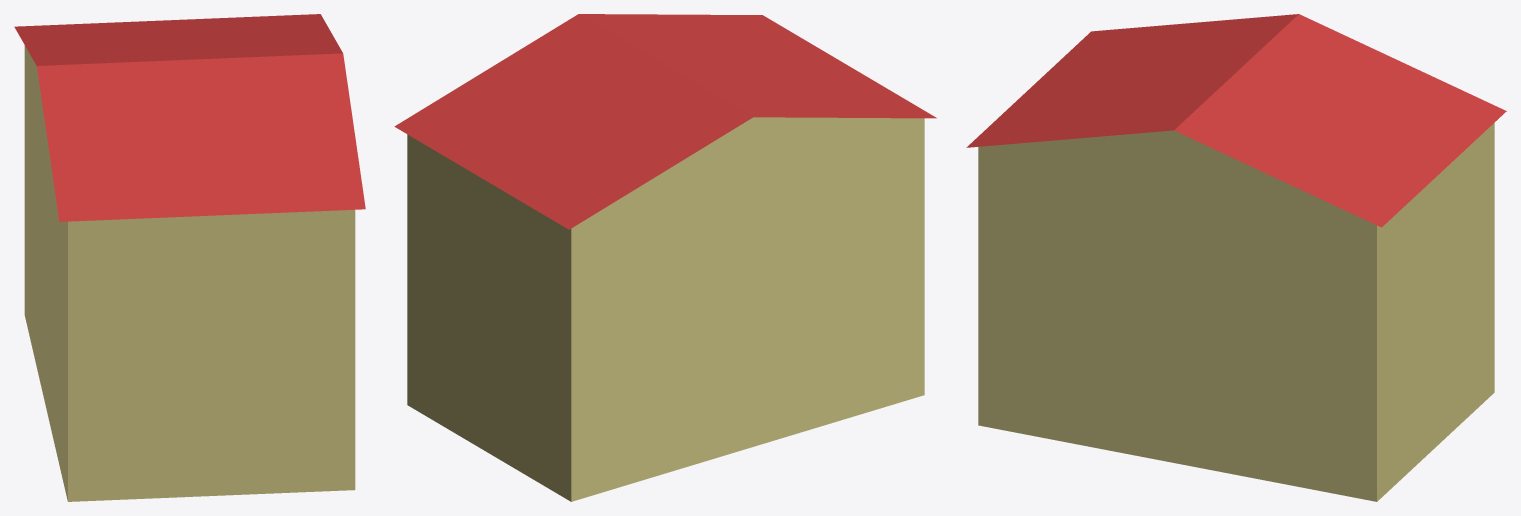
3 views of the same model, side by side, from view 1: azimuth 30°, elevation 25°; view 2: azimuth 150°, elevation 25°; view 3: azimuth 270°, elevation 25° (orthographic). The views are drawn at different scales.
Size of the model in its own units: 12.39 by 14.43 by 9.92.
